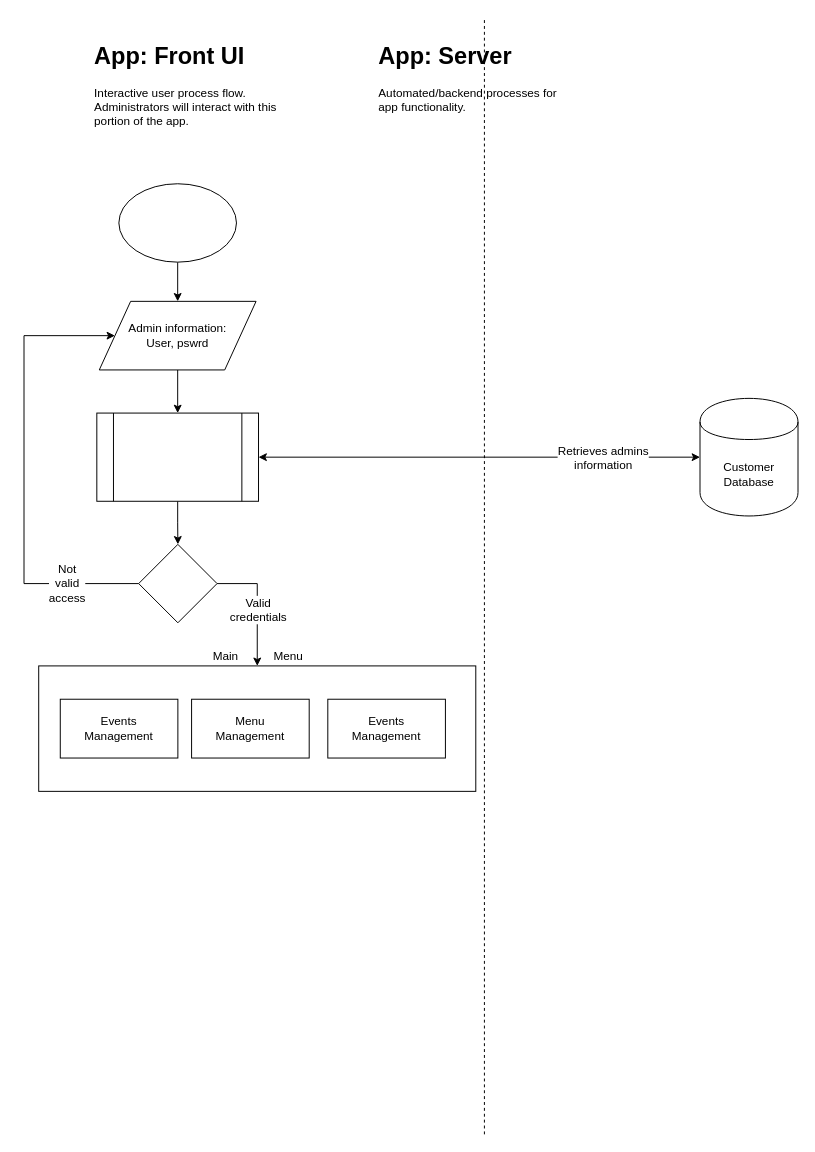
Image size: 815x1152. Some labels were removed from this diagram. Each missing label, with the centre of its shape:
"Credentials verification" goes at (177,583).
"Record user information; redirect to menu selection" goes at (177,456).
"Start" goes at (177,222).
